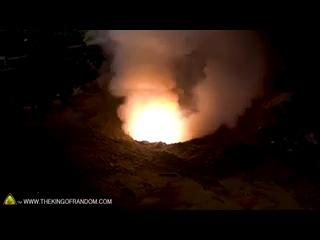Fire: (113, 74, 193, 146)
